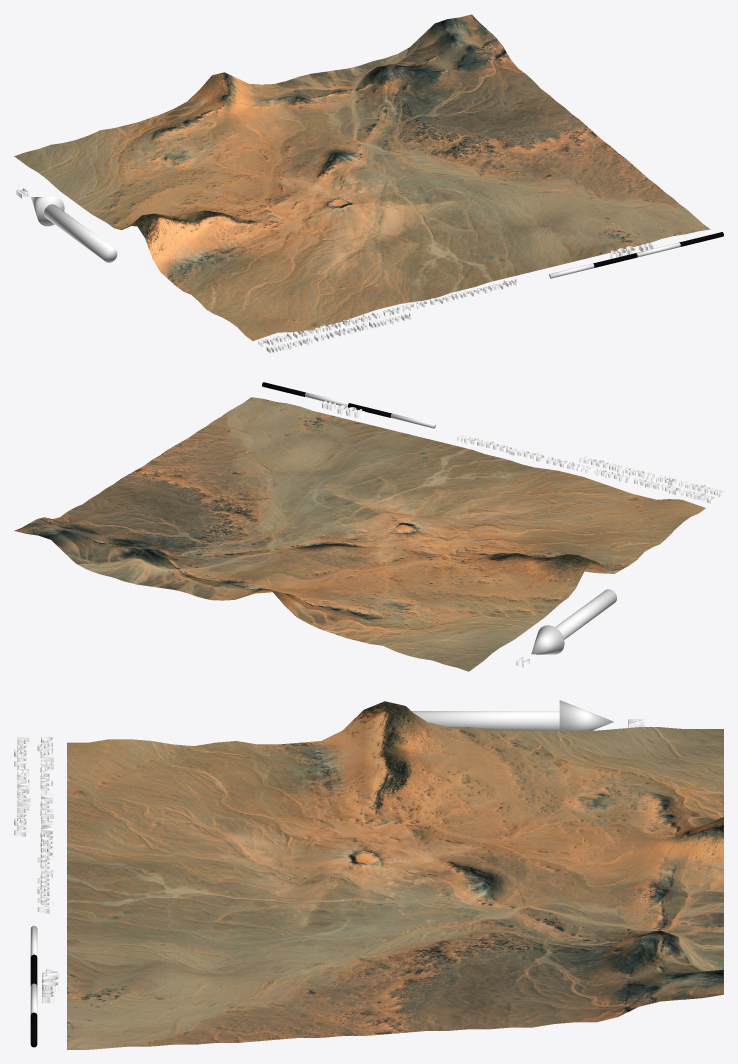
File: kamil_impact_crater_egypt.glb
3 views of the same model, one above another, from view 1: azimuth 30°, elevation 25°; view 2: azimuth 150°, elevation 25°; view 3: azimuth 270°, elevation 25° (orthographic). The views are drawn at different scales.
Parts seen in each view (by area): view 1: TerrainNode_0, Adornments_1; view 2: TerrainNode_0, Adornments_1; view 3: TerrainNode_0, Adornments_1.
Boxes of the visible parts, x1,y1,x2,y2 form: TerrainNode_0: [14, 14, 710, 340]; Adornments_1: [16, 188, 723, 353]; TerrainNode_0: [14, 397, 705, 671]; Adornments_1: [262, 382, 723, 667]; TerrainNode_0: [67, 701, 723, 1049]; Adornments_1: [14, 700, 644, 1047].
Size of the model in its own units: 1236 by 127 by 1117.
2 materials, 1 textured.
